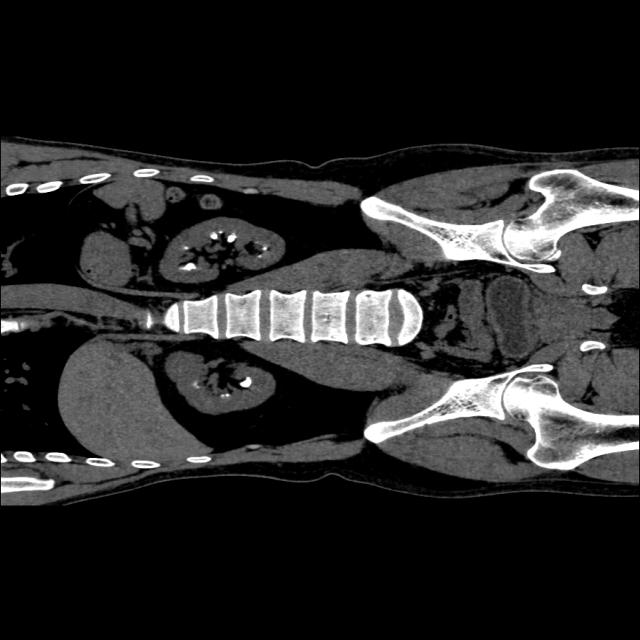kidneystone: (182, 261, 196, 270), (212, 390, 229, 397), (227, 232, 235, 242), (239, 380, 249, 386), (212, 231, 218, 239), (262, 246, 268, 249)
